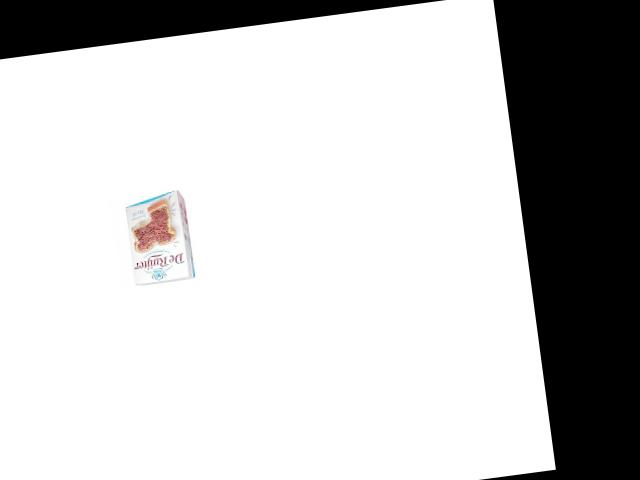chocolate: (115, 190, 204, 292)
